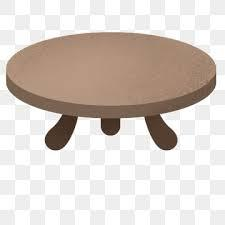desk: (2, 26, 220, 166)
